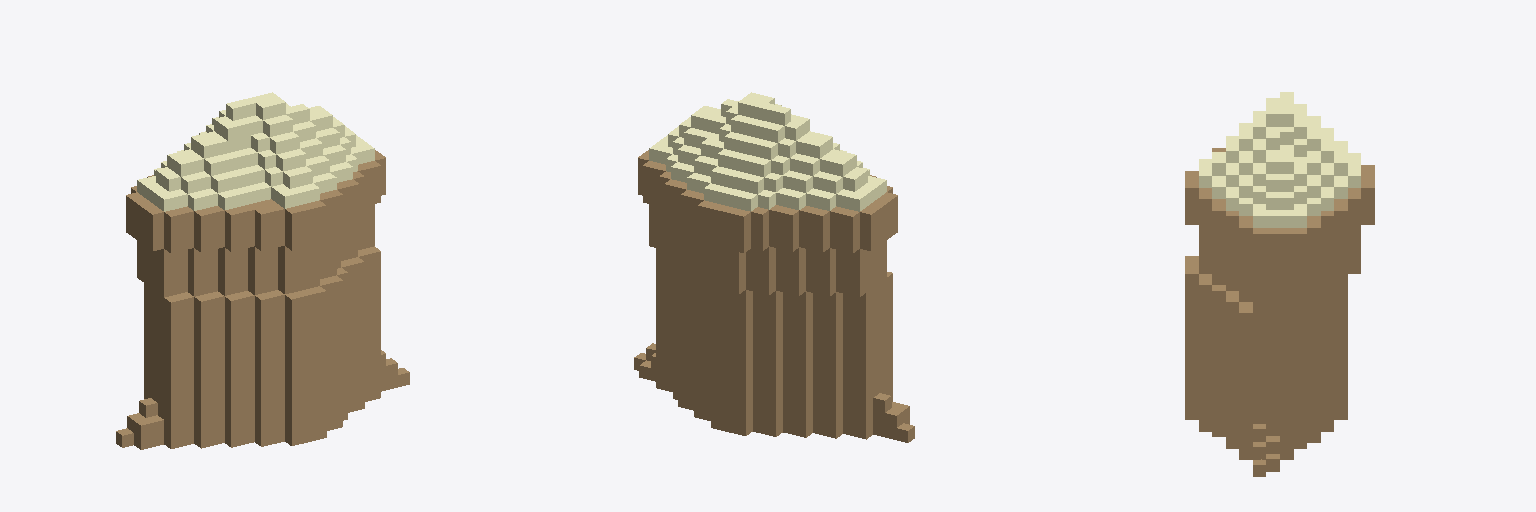
3 renders of one model, left to right at view 1: azimuth 30°, elevation 25°; view 2: azimuth 150°, elevation 25°; view 3: azimuth 270°, elevation 25°, orthographic.
Parts seen in each view (by area): view 1: object 1; view 2: object 1; view 3: object 1.
Part boxes in pixels (bbox=[...]): object 1: bbox=[116, 92, 409, 449]; object 1: bbox=[634, 92, 914, 442]; object 1: bbox=[1185, 92, 1374, 476].
Bounding box in the file's own units: 2.4 × 2.5 × 1.4.
1 materials, 1 textured.